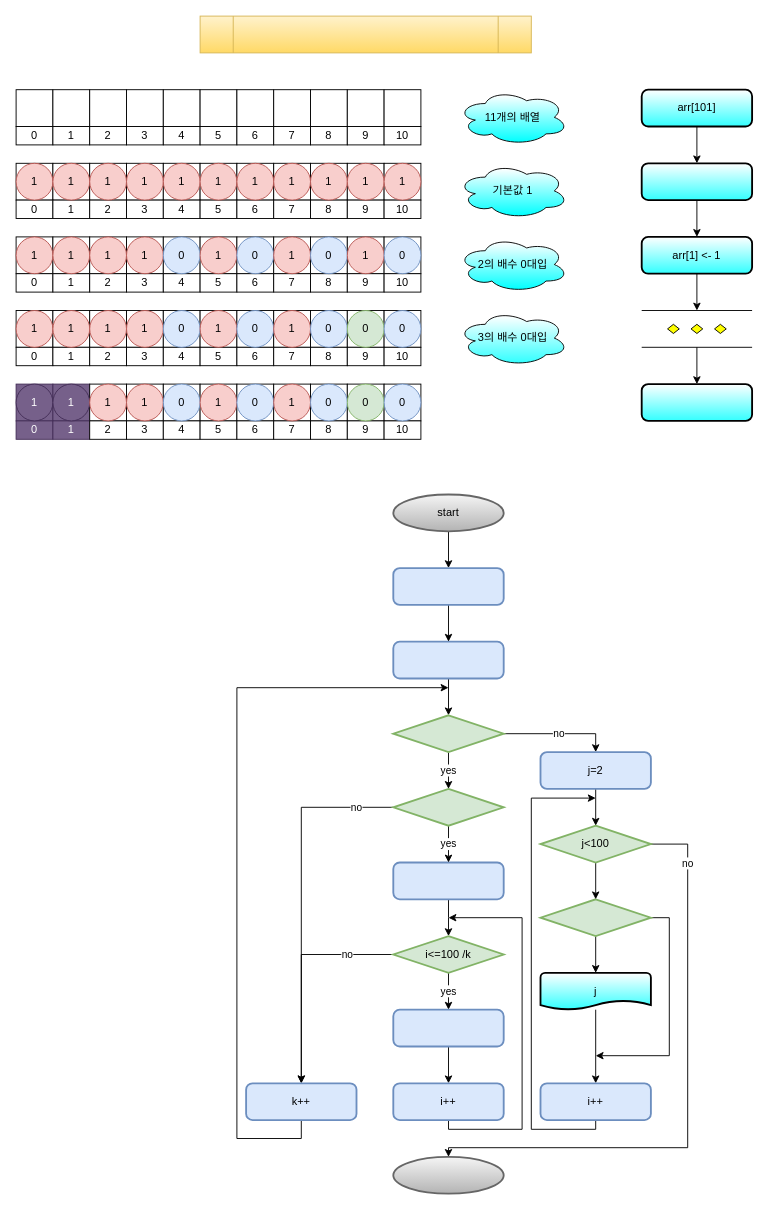
Some shapes in this 769 by 1211 pixel diagram are drawn without their labels. The shapes that lost their labels are listed below. From the top down, each one's centre as x and y in pixels, then its label:
(365,34): Sieve of Eratosthenes
(696,181): arr[0] <- 1
(696,402): arr[100] <- 1
(448,586): int arr[] = {1} *100
(448,659): k = 2
(448,733): k*k < 100
(448,807): arr[k]=1
(448,880): i = k
(595,917): arr[j] =0
(448,1027): arr[k*i] = 0
(448,1175): end
